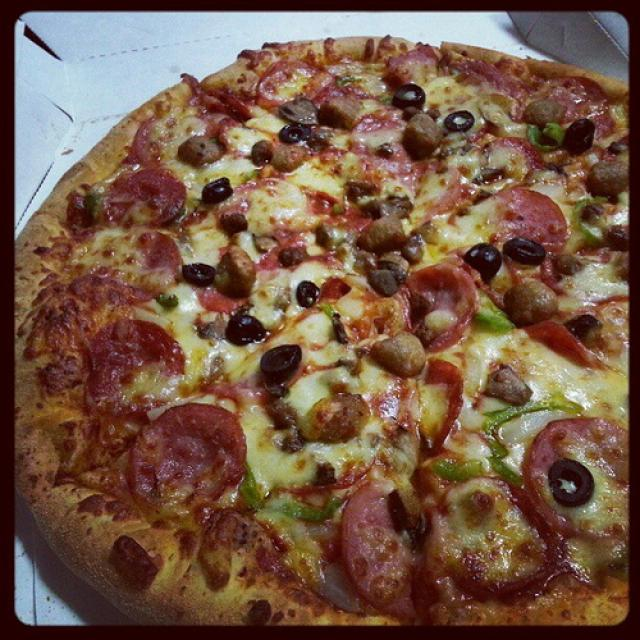Wet Waste: (18, 34, 624, 621)
